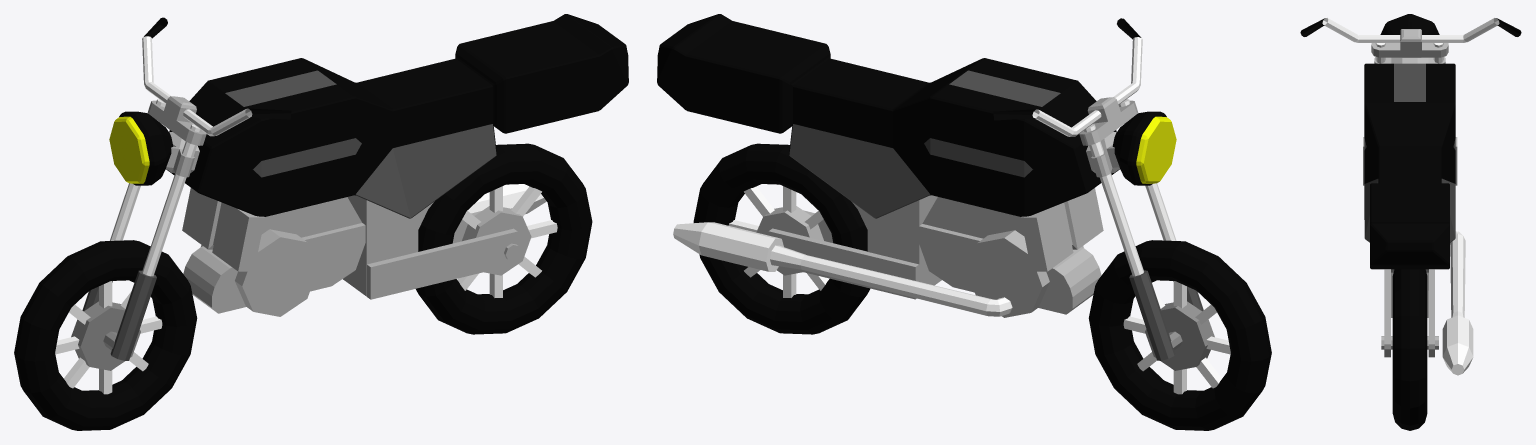
Rendered from Motor_1.fbx.
The picture shows the model from 3 angles, left to right: view 1: azimuth 30°, elevation 25°; view 2: azimuth 150°, elevation 25°; view 3: azimuth 270°, elevation 25°; orthographic projection. The views are drawn at different scales.
Visible parts, largest first — view 1: Cube.008; view 2: Cube.008; view 3: Cube.008.
Part boxes in pixels (left/top/right/bottom): Cube.008: left=14, top=14, right=628, bottom=430; Cube.008: left=657, top=14, right=1271, bottom=430; Cube.008: left=1300, top=14, right=1521, bottom=430.
Size of the model in its own units: 235 by 126 by 89.5.
